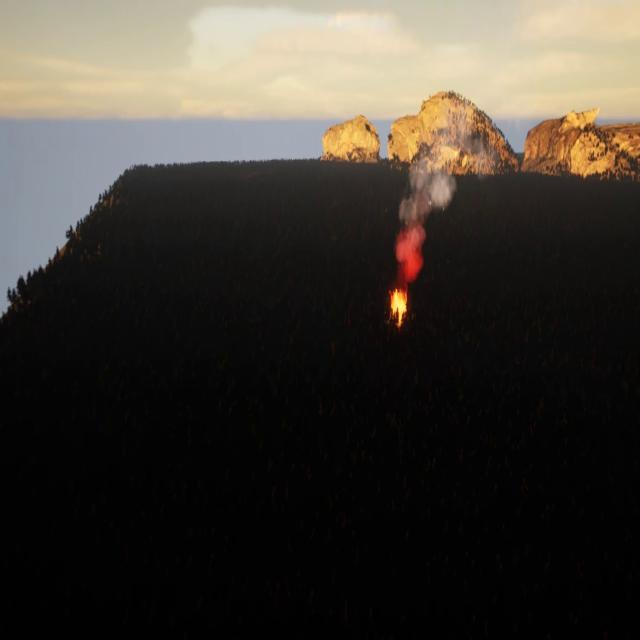fire: (390, 291, 410, 328)
smoke: (393, 110, 487, 291)
